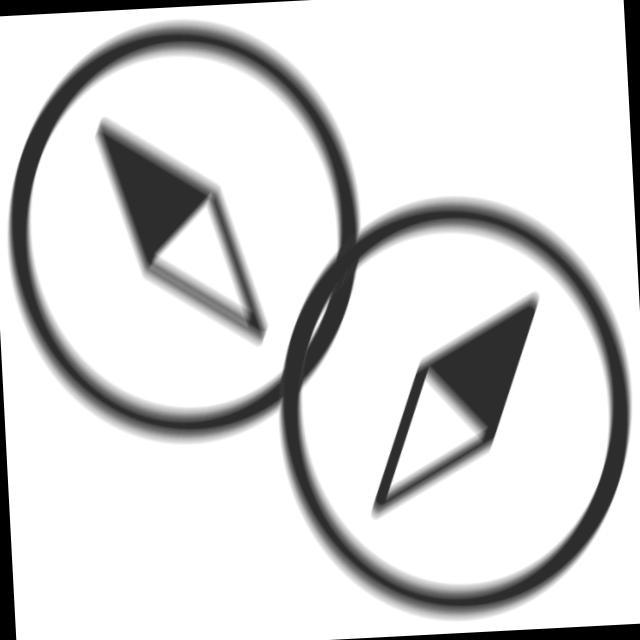compass: (1, 7, 385, 464), (257, 181, 640, 639)
